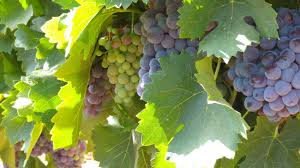Black grapes: (232, 5, 300, 121), (139, 5, 199, 104)
Green grapes: (100, 26, 150, 113)
